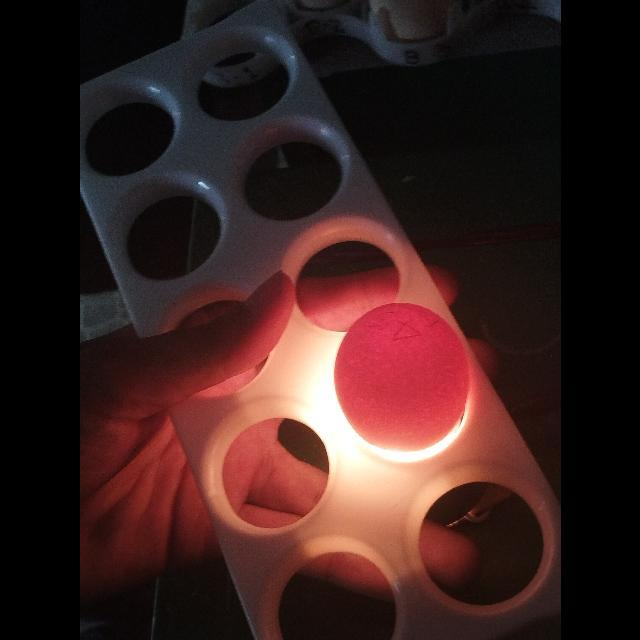Infertile: (332, 302, 473, 454)
